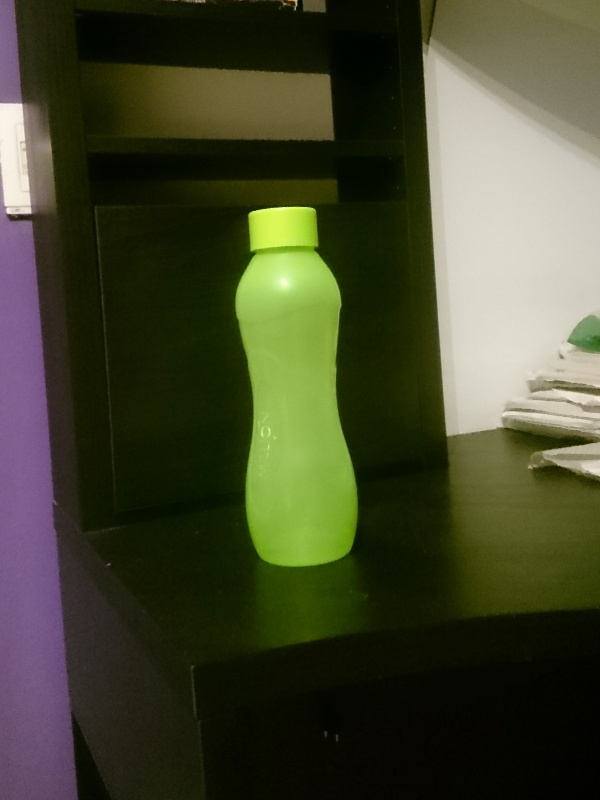my bottle: (233, 206, 358, 567)
